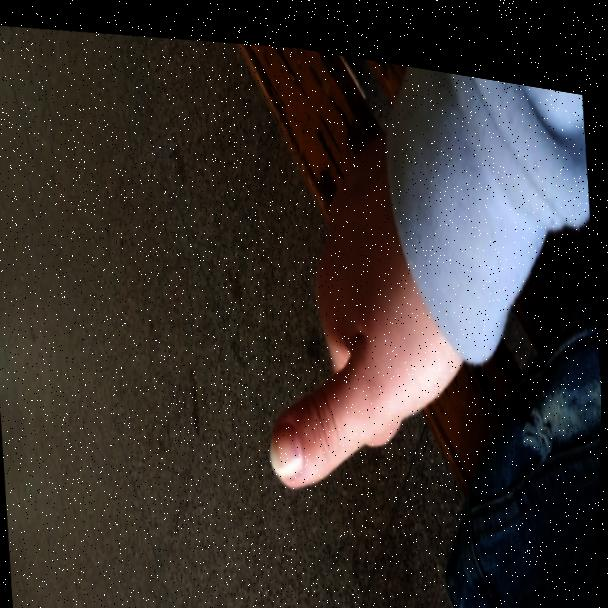five: (231, 81, 485, 518)
